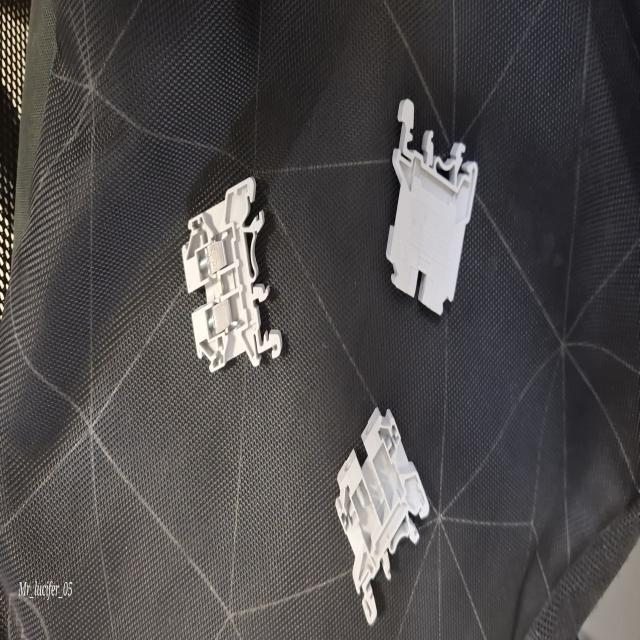Inverted: (386, 95, 480, 318)
Pass: (182, 172, 284, 377)
Reject: (332, 404, 433, 622)
